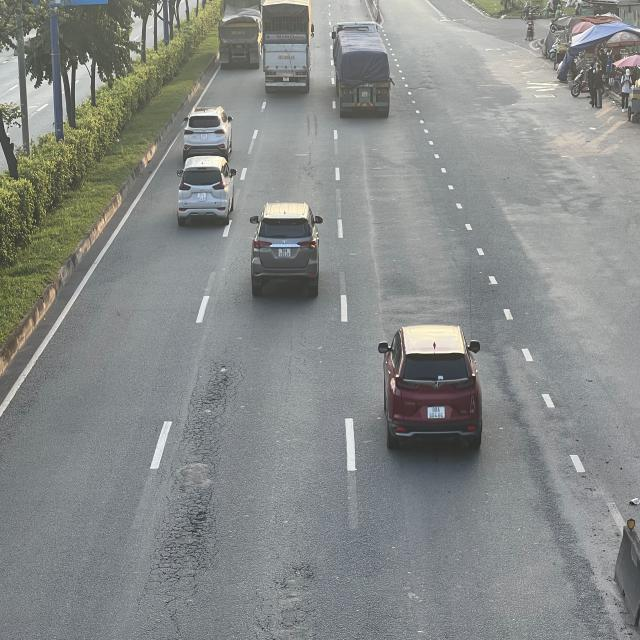car: (378, 324, 482, 452), (251, 202, 325, 294), (177, 156, 239, 225), (183, 110, 234, 162)
container: (328, 23, 391, 118), (217, 8, 260, 68)
truck: (262, 0, 313, 94)
